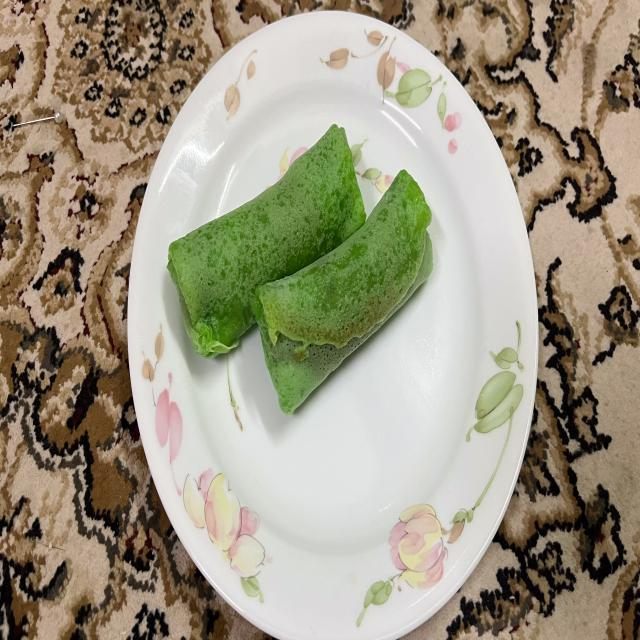Kuih-Ketayap: (168, 124, 366, 358), (252, 171, 434, 413)
